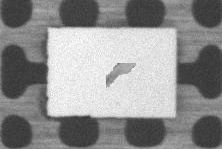DIE_INK: (106, 63, 135, 90)
